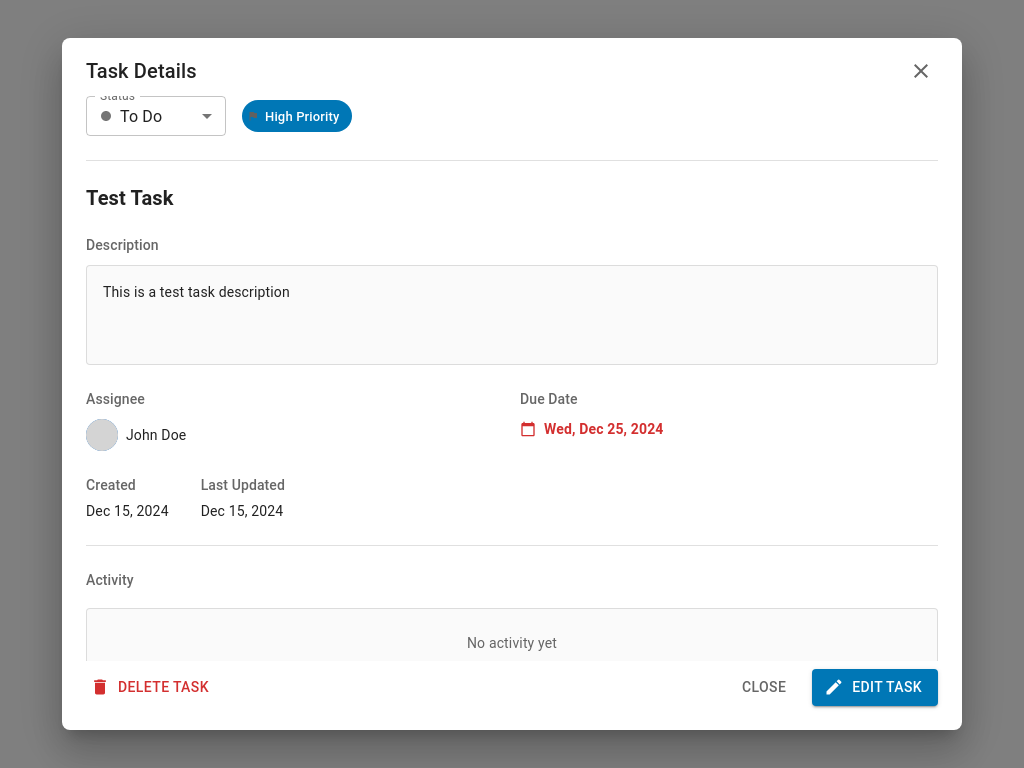
Test: TaskDetailModal › Edit Mode › cancels edit mode when cancel is clicked
Note: Enter edit mode
Click the button "Edit Task": [875, 687] box [812, 669, 938, 706]
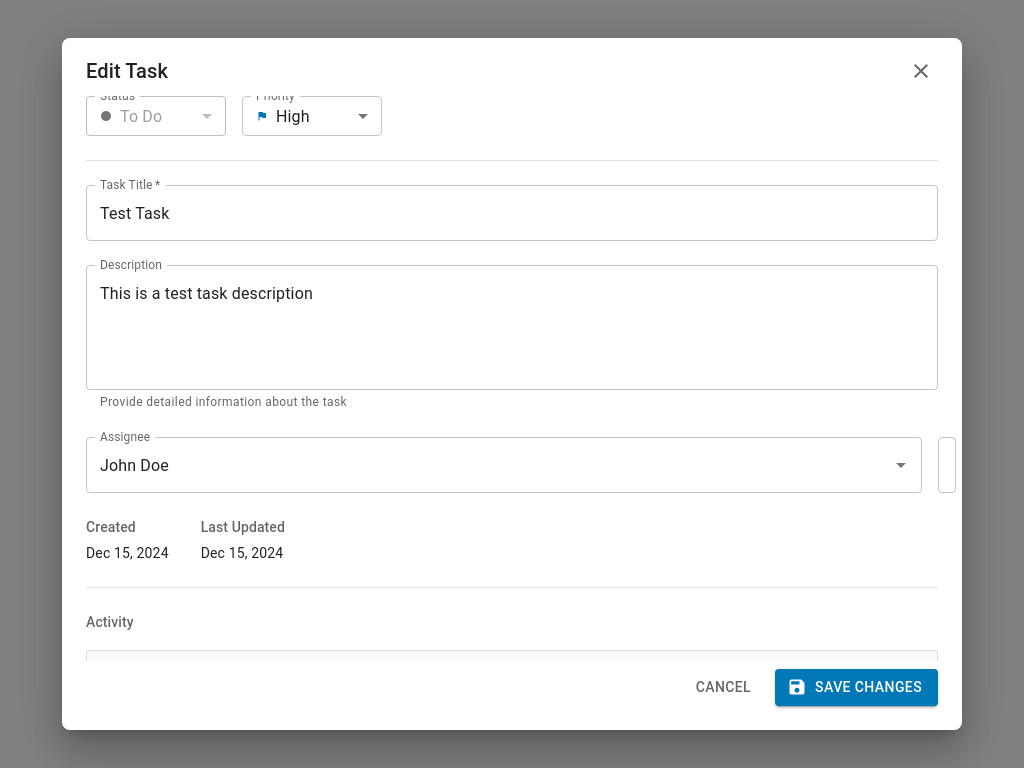
Note: Cancel edit
Click the button "Cancel": [723, 687] box [688, 669, 759, 706]
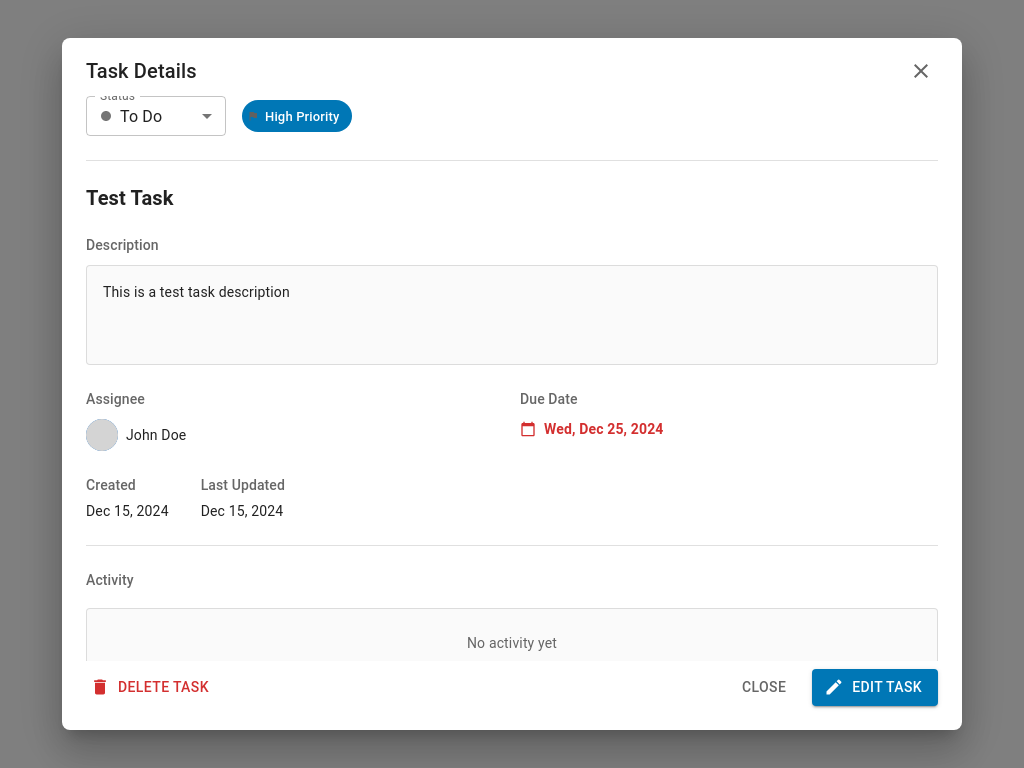
expect the heading "Task Details" is shown: met, box [86, 55, 197, 87]
